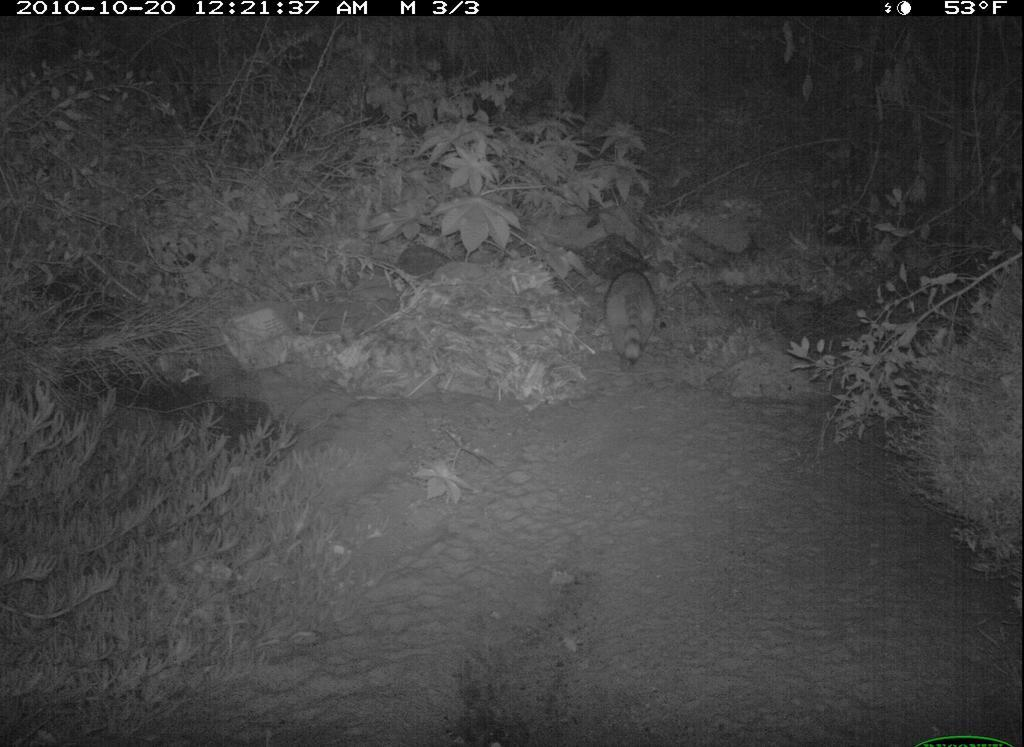raccoon: (588, 262, 662, 372)
